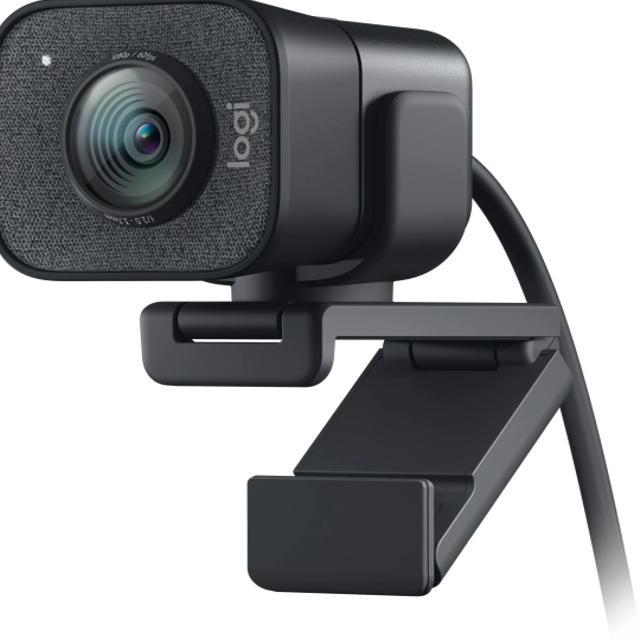hidden camera: (43, 61, 248, 226)
